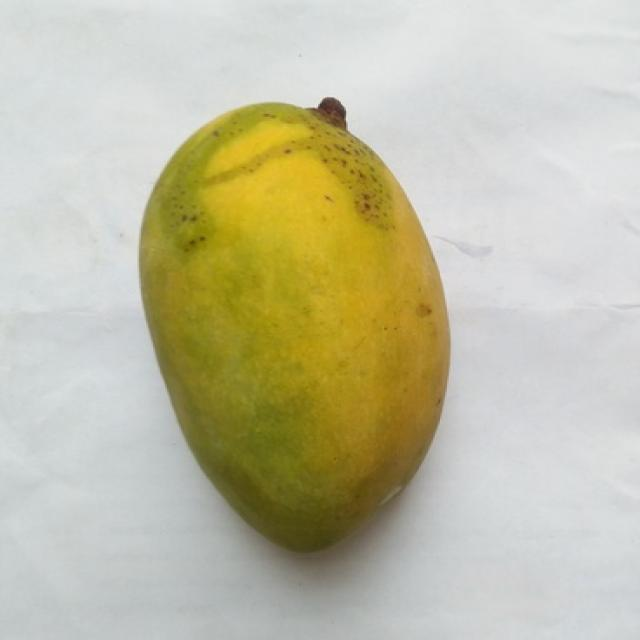Mango: (139, 98, 449, 550)
